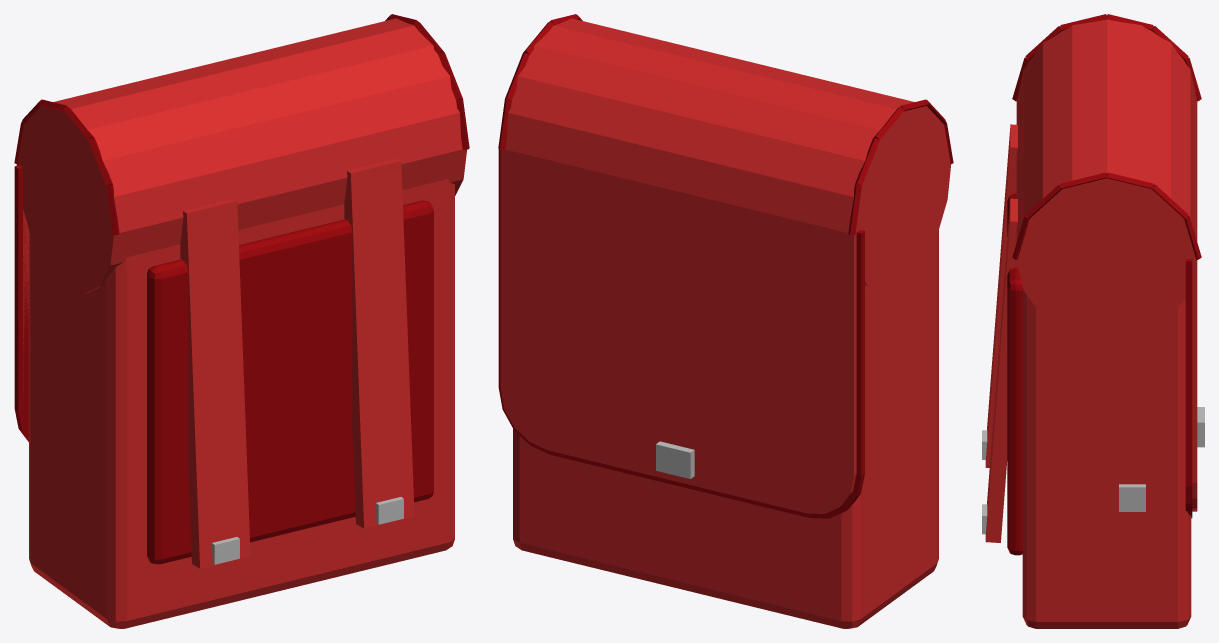
File: randoseru_red.glb
3 renders of one model, left to right at view 1: azimuth 30°, elevation 25°; view 2: azimuth 150°, elevation 25°; view 3: azimuth 270°, elevation 25°, orthographic. The views are drawn at different scales.
Parts seen in each view (by area): view 1: Cylinder, Cube, Cube.002, Cube.005, Cube.003, prism.001, prism, Cube.004, Cube.006; view 2: prism, Cylinder, Cube, prism.001, Cube.001; view 3: Cylinder, Cube, Cube.002, Cube.005, Cube.003, prism.001, prism, Cube.007, Cube.001.
Boxes of the visible parts, left/top/right/bottom form: Cylinder: left=16, top=18, right=466, bottom=293; Cube: left=29, top=179, right=454, bottom=628; Cube.002: left=147, top=200, right=433, bottom=564; Cube.005: left=344, top=158, right=414, bottom=528; Cube.003: left=180, top=198, right=250, bottom=568; prism.001: left=14, top=165, right=28, bottom=441; prism: left=16, top=165, right=28, bottom=404; Cube.004: left=212, top=537, right=239, bottom=564; Cube.006: left=376, top=497, right=403, bottom=524; prism: left=500, top=149, right=856, bottom=513; Cylinder: left=505, top=18, right=951, bottom=293; Cube: left=513, top=230, right=938, bottom=628; prism.001: left=498, top=149, right=864, bottom=518; Cube.001: left=656, top=441, right=694, bottom=478; Cylinder: left=1016, top=19, right=1197, bottom=340; Cube: left=1022, top=287, right=1191, bottom=628; Cube.002: left=1007, top=193, right=1022, bottom=555; Cube.005: left=985, top=198, right=1018, bottom=542; Cube.003: left=985, top=124, right=1017, bottom=467; prism.001: left=1185, top=259, right=1192, bottom=518; prism: left=1192, top=259, right=1197, bottom=511; Cube.007: left=1119, top=484, right=1145, bottom=511; Cube.001: left=1197, top=407, right=1204, bottom=447.
Size of the model in its own units: 23 by 30.21 by 13.2.
